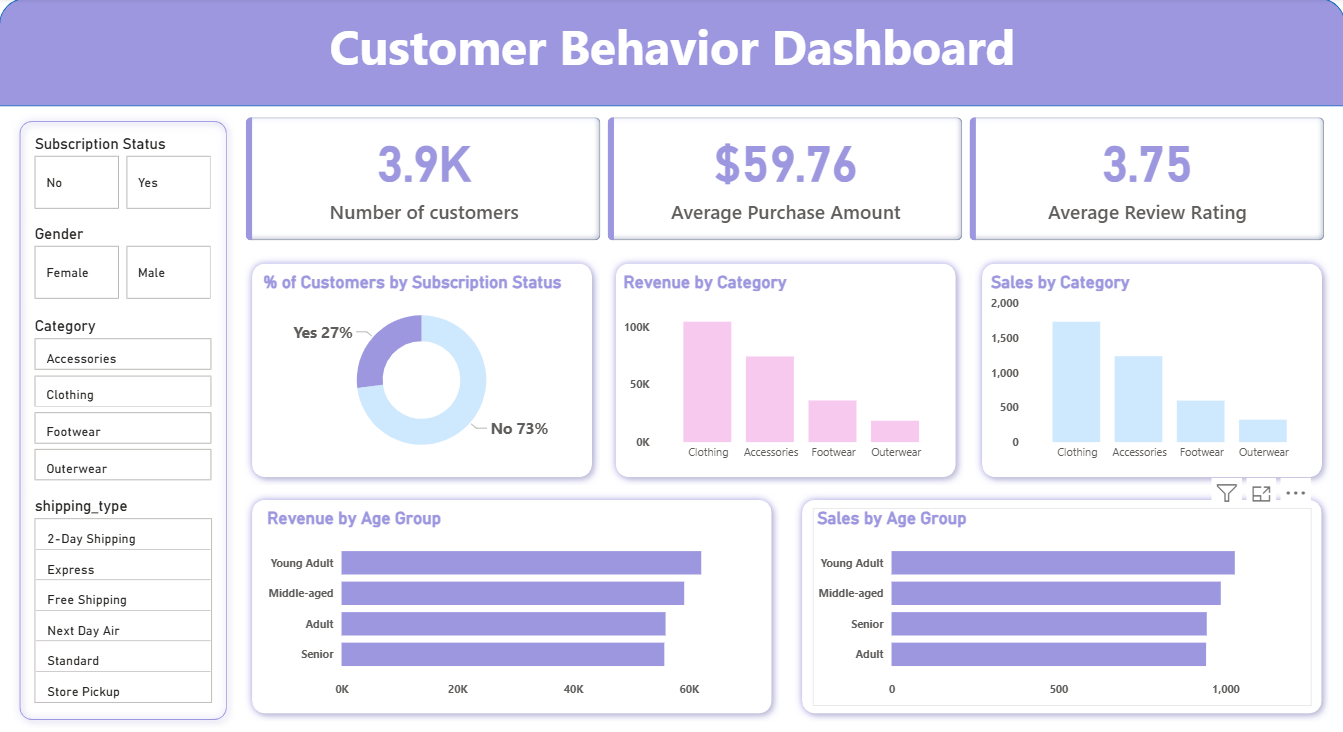

The dashboard page shown, as its layout file describes it:
{"tool":"powerbi","page":{"name":"Page 1","canvas":[1500,820],"ordinal":0},"visuals":[{"type":"shape","box":[885.4,550,596.9,256.1],"z":0},{"type":"cardVisual","fields":{"Data":["public customer_behavior.Number of customers","public customer_behavior.Average purchase Amount","public customer_behavior.Average Review Rating"]},"box":[270.5,128,1211.8,147.9],"z":1000},{"type":"shape","box":[0,0,1500.4,120.8],"z":2000},{"type":"textbox","box":[0,12.6,1500.4,97.4],"z":3000},{"type":"shape","box":[272.3,286.7,396.7,256.1],"z":4000},{"type":"donutChart","title":"% of Customers by Subscription Status","fields":{"Category":["public customer_behavior.subscription_status"],"Y":["CountNonNull(public customer_behavior.customer_id)"]},"box":[290.3,304.8,362.5,220],"z":5000},{"type":"shape","box":[1085.6,286.7,396.7,256.1],"z":6000},{"type":"shape","box":[678.1,286.7,396.7,256.1],"z":7000},{"type":"clusteredColumnChart","title":"Revenue by Category","fields":{"Y":["Sum(public customer_behavior.purchase_amount)"],"Category":["public customer_behavior.category"]},"box":[690.7,304.8,369.7,220],"z":8000},{"type":"clusteredColumnChart","title":"Sales by Category","fields":{"Category":["public customer_behavior.category"],"Y":["CountNonNull(public customer_behavior.customer_id)"]},"box":[1100,304.8,369.7,220],"z":9000},{"type":"shape","box":[14.4,128,248.9,685.3],"z":10000},{"type":"advancedSlicerVisual","fields":{"Values":["public customer_behavior.subscription_status"]},"box":[34.3,151.5,207.4,88.4],"z":11000},{"type":"advancedSlicerVisual","fields":{"Values":["public customer_behavior.gender"]},"box":[34.3,252.5,207.4,88.4],"z":12000},{"type":"advancedSlicerVisual","fields":{"Values":["public customer_behavior.category"]},"box":[34.3,355.3,207.4,191.2],"z":13000},{"type":"advancedSlicerVisual","fields":{"Values":["public customer_behavior.shipping_type"]},"box":[34.3,555.4,207.4,238],"z":14000},{"type":"shape","box":[272.3,550,596.9,256.1],"z":15000},{"type":"clusteredBarChart","title":"Revenue by Age Group","fields":{"Category":["public customer_behavior.age_group"],"Y":["Sum(public customer_behavior.purchase_amount)"]},"box":[293.9,568,555.4,220],"z":16000},{"type":"clusteredBarChart","title":"Sales by Age Group","fields":{"Category":["public customer_behavior.age_group"],"Y":["CountNonNull(public customer_behavior.customer_id)"]},"box":[907.1,568,555.4,220],"z":17000}]}

Visuals, with their boxes in screenshot pixels (x1, y1, x2, y2), scaled from the page's 1500x820 canvas onto the 1343x732 screenshot:
shape: left=793, top=491, right=1327, bottom=720
cardVisual - public customer_behavior.Number of customers x public customer_behavior.Average purchase Amount: left=242, top=114, right=1327, bottom=246
shape: left=0, top=0, right=1342, bottom=108
textbox: left=0, top=11, right=1342, bottom=98
shape: left=244, top=256, right=599, bottom=485
"% of Customers by Subscription Status" donutChart: left=260, top=272, right=584, bottom=468
shape: left=972, top=256, right=1327, bottom=485
shape: left=607, top=256, right=962, bottom=485
"Revenue by Category" clusteredColumnChart: left=618, top=272, right=949, bottom=468
"Sales by Category" clusteredColumnChart: left=985, top=272, right=1316, bottom=468
shape: left=13, top=114, right=236, bottom=726
advancedSlicerVisual - public customer_behavior.subscription_status: left=31, top=135, right=216, bottom=214
advancedSlicerVisual - public customer_behavior.gender: left=31, top=225, right=216, bottom=304
advancedSlicerVisual - public customer_behavior.category: left=31, top=317, right=216, bottom=488
advancedSlicerVisual - public customer_behavior.shipping_type: left=31, top=496, right=216, bottom=708
shape: left=244, top=491, right=778, bottom=720
"Revenue by Age Group" clusteredBarChart: left=263, top=507, right=760, bottom=703
"Sales by Age Group" clusteredBarChart: left=812, top=507, right=1309, bottom=703
